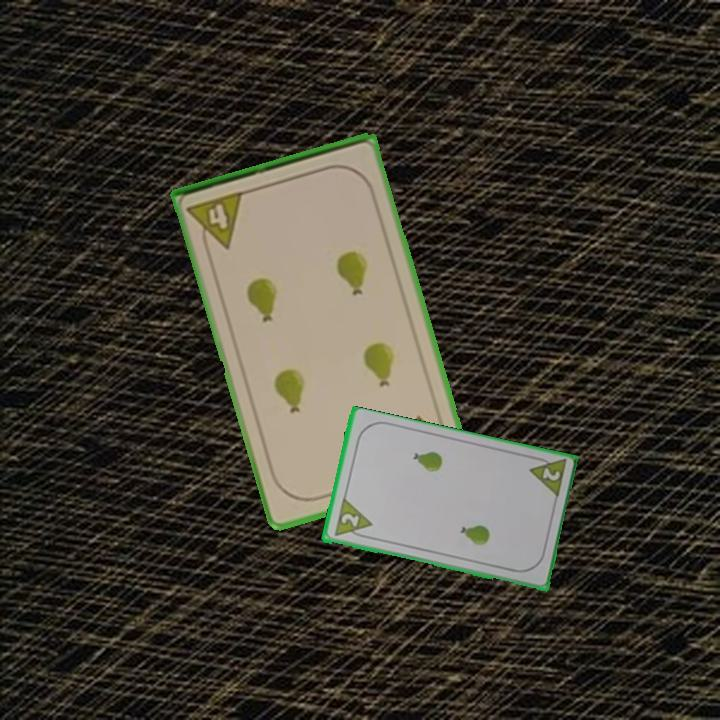2p: (525, 452, 569, 501), (330, 496, 374, 542)
4p: (183, 187, 247, 256)
